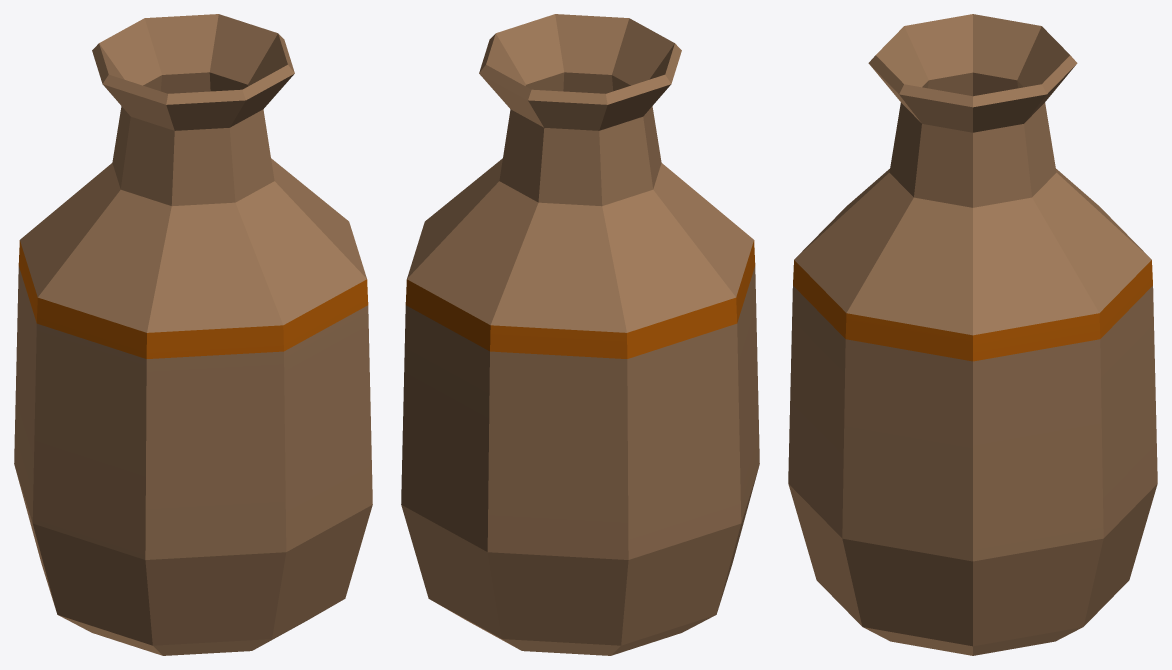
Rendered from Jug_01.glb.
3 renders of one model, left to right at view 1: azimuth 30°, elevation 25°; view 2: azimuth 150°, elevation 25°; view 3: azimuth 270°, elevation 25°, orthographic.
Parts seen in each view (by area): view 1: Jug_01; view 2: Jug_01; view 3: Jug_01.
Part boxes in pixels (<box>): Jug_01: <box>14,14,372,655</box>; Jug_01: <box>401,14,759,655</box>; Jug_01: <box>788,14,1157,655</box>.
Size of the model in its own units: 0.3009 by 0.4954 by 0.3009.
Materials: 1 (1 with a texture image).
